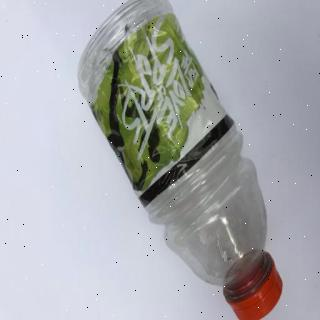Plastic-bottle: (77, 1, 285, 320)
